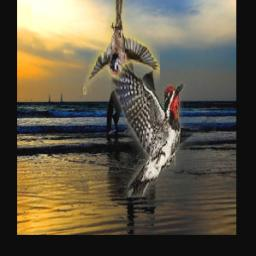Sparrow: (83, 0, 160, 95)
Woodpecker: (111, 54, 216, 199)
